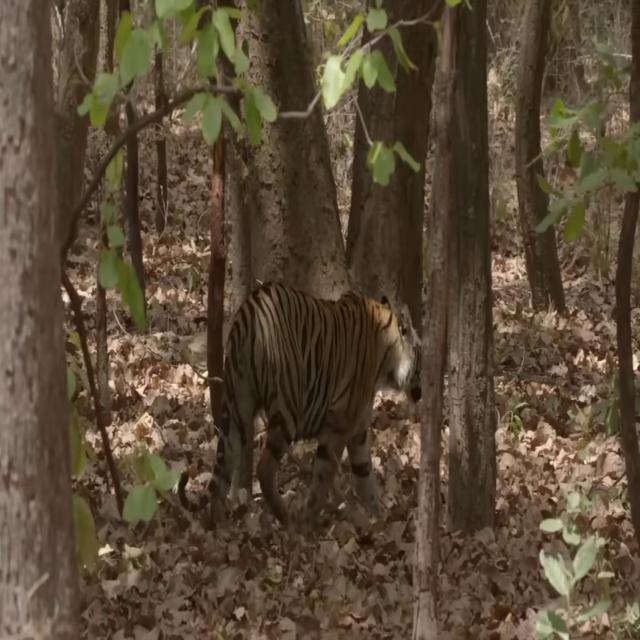tiger: (178, 282, 424, 534)
